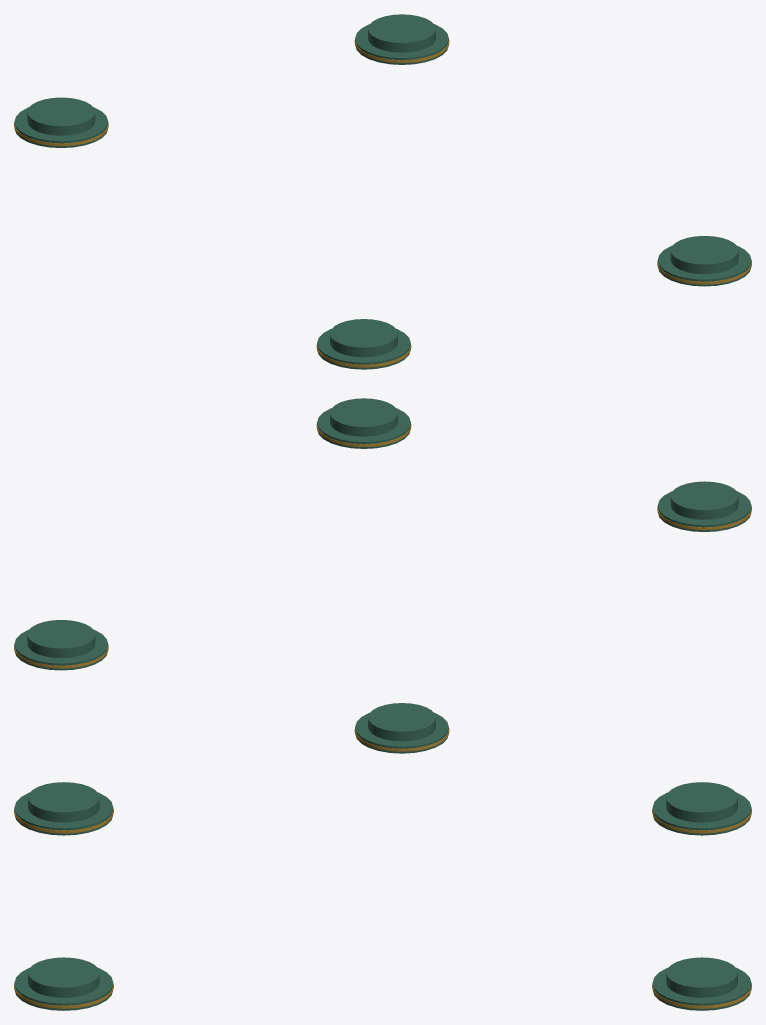
The model's file is hangar2_mounts.obj.
3 renders of one model, top to bottom at view 1: azimuth 30°, elevation 25°; view 2: azimuth 150°, elevation 25°; view 3: azimuth 270°, elevation 25°, orthographic. The views are drawn at different scales.
Visible parts, largest first — view 1: hangar2_mounts; view 2: hangar2_mounts; view 3: hangar2_mounts.
Boxes of the visible parts, x1,y1,x2,y2 form: hangar2_mounts: (14, 14, 751, 369); hangar2_mounts: (14, 398, 751, 753); hangar2_mounts: (14, 782, 751, 1010).
Bounding box in the file's own units: 6.45 × 0.246 × 9.25.
